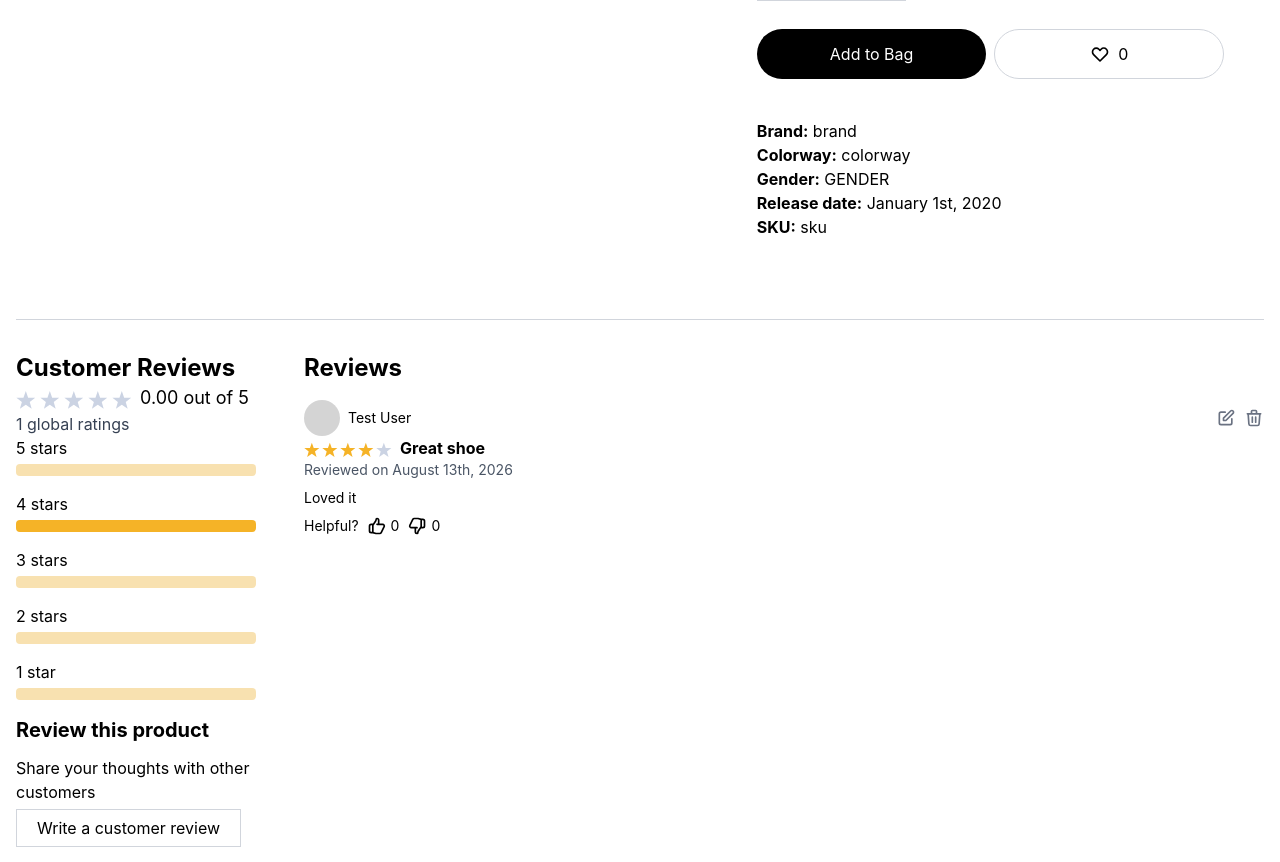
removes a review from the page after deleting it
The width and height of the screenshot is (1280, 862).
(page scrolled)
Click the button named "delete review": (1254, 418) [1244,408,1264,428]
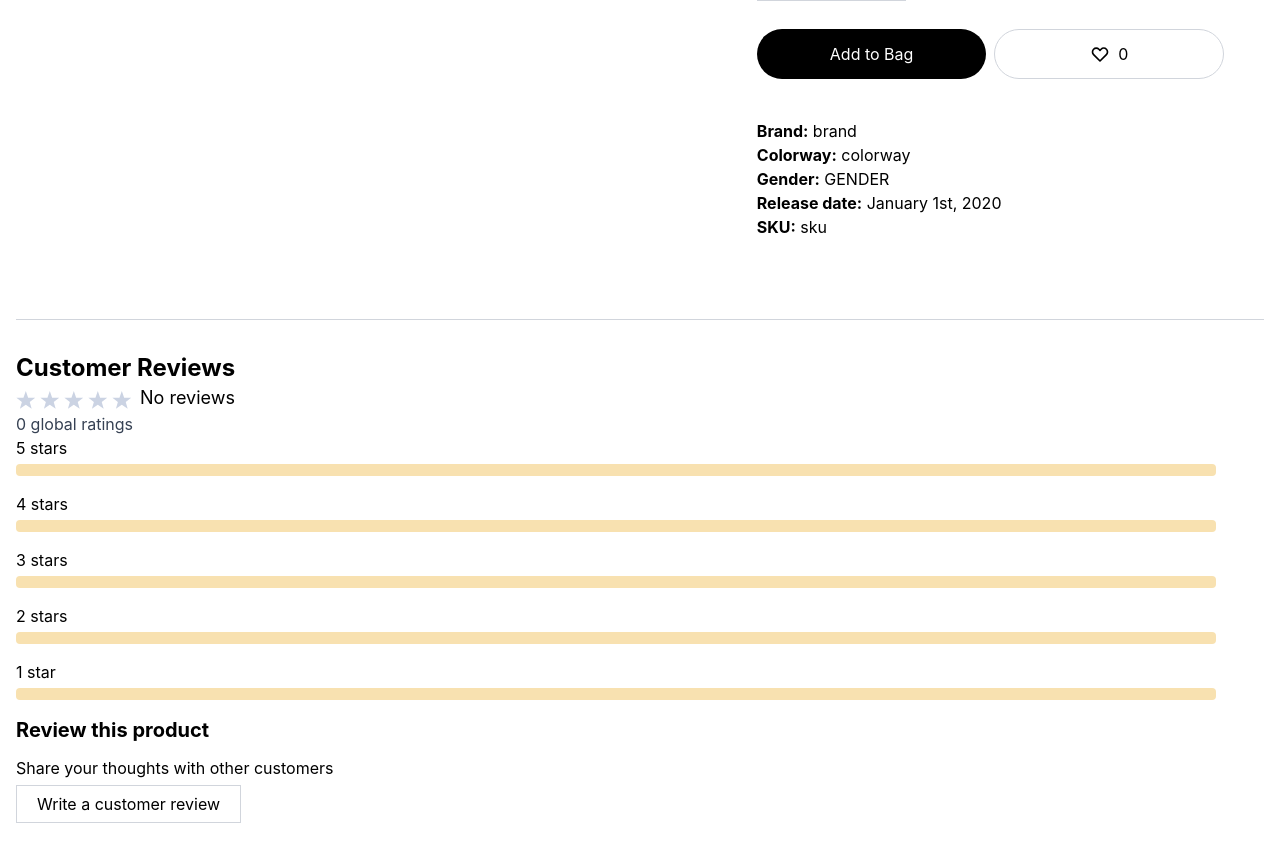
Check: the text "Great shoe" is gone
